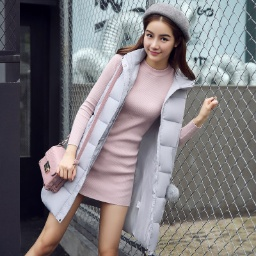face: (131, 10, 190, 73)
